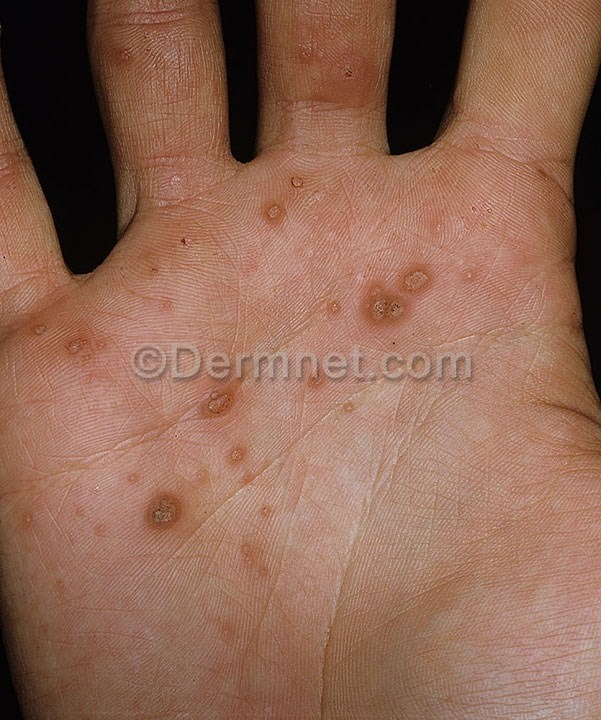Warts: (338, 242, 456, 342), (24, 308, 114, 380), (134, 470, 206, 552), (254, 166, 314, 236), (196, 390, 248, 428)
